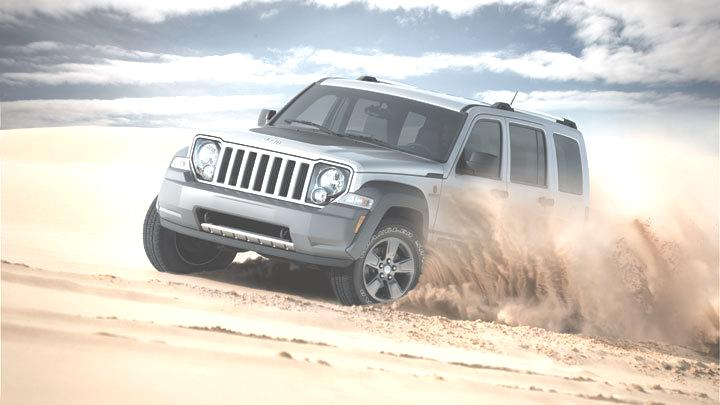jeep: (252, 122, 296, 156)
